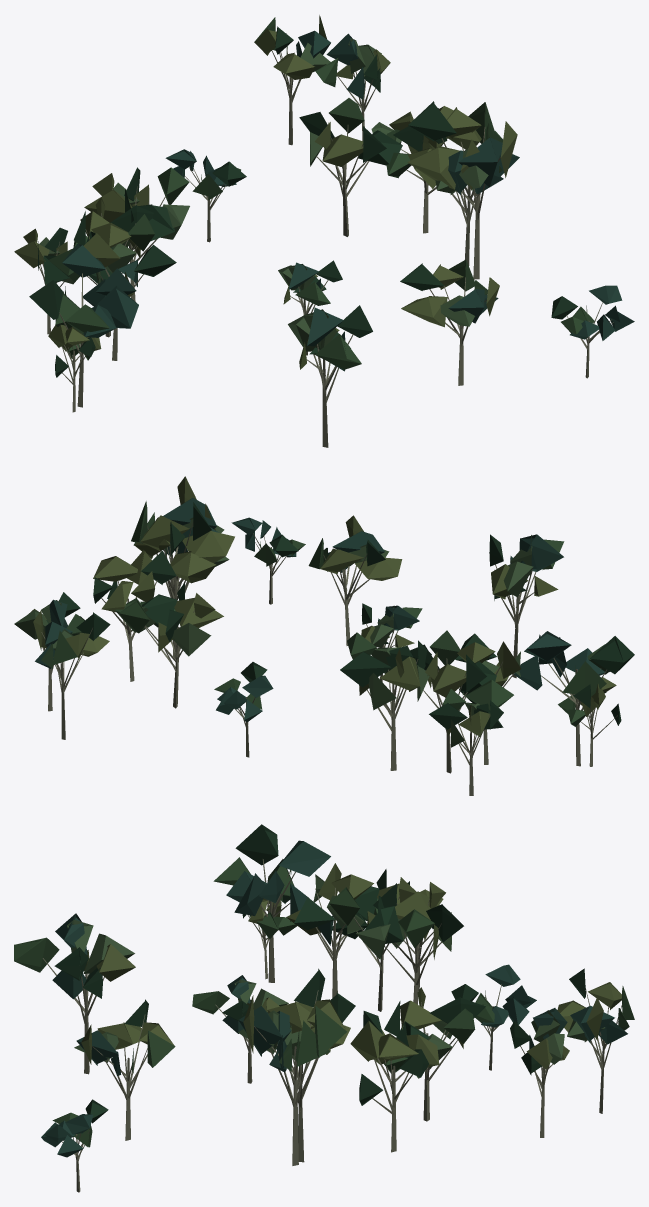
Rendered from forest_17_21.dae.
3 views of the same model, one above another, from view 1: azimuth 30°, elevation 25°; view 2: azimuth 150°, elevation 25°; view 3: azimuth 270°, elevation 25° (orthographic). The views are drawn at different scales.
Visible parts, largest first — view 1: Node; view 2: Node; view 3: Node.
Part boxes in pixels (x1,y1,x2,y2): Node: [14, 15, 634, 447]; Node: [14, 476, 634, 795]; Node: [14, 824, 634, 1192].
Size of the model in its own units: 11.11 by 11.67 by 4.47.
